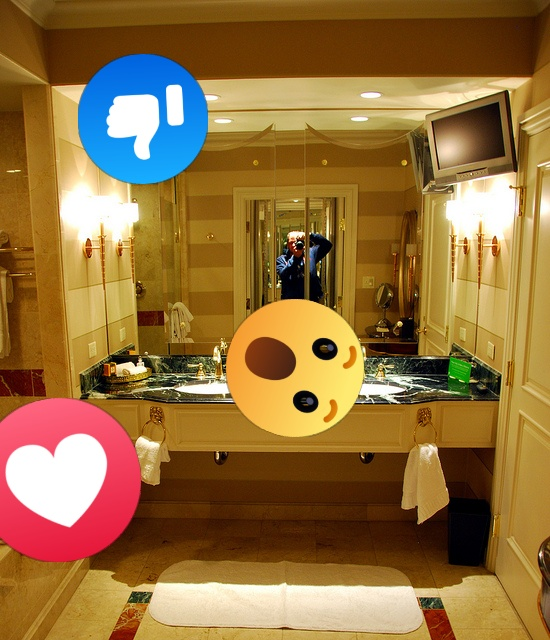like: (78, 54, 208, 184)
love: (0, 398, 141, 562)
wow: (226, 299, 364, 437)
